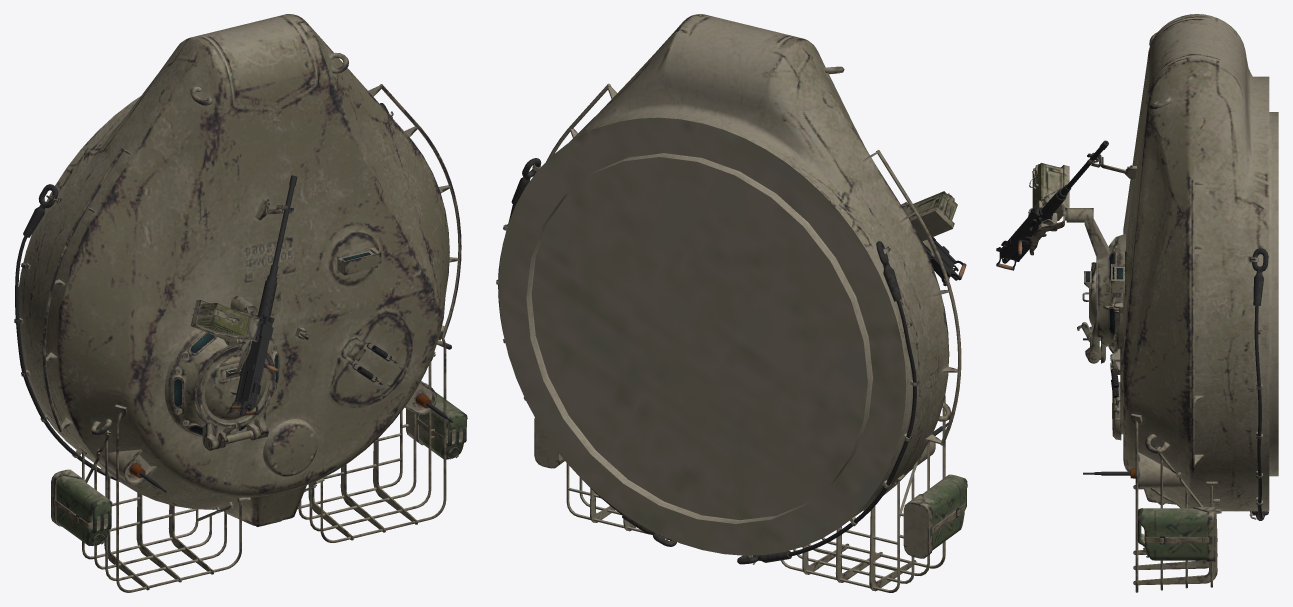
File: Turret_01.glb
3 renders of one model, left to right at view 1: azimuth 30°, elevation 25°; view 2: azimuth 150°, elevation 25°; view 3: azimuth 270°, elevation 25°, orthographic. The views are drawn at different scales.
Parts seen in each view (by area): view 1: set_0_group_0; view 2: set_0_group_0; view 3: set_0_group_0.
Part boxes in pixels (x1,y1,x2,y2): set_0_group_0: (14,14,467,592); set_0_group_0: (496,14,967,592); set_0_group_0: (996,14,1278,592).
Bounding box in the file's own units: 3.19 × 3.68 × 1.94.
Materials: 1 (1 with a texture image).
